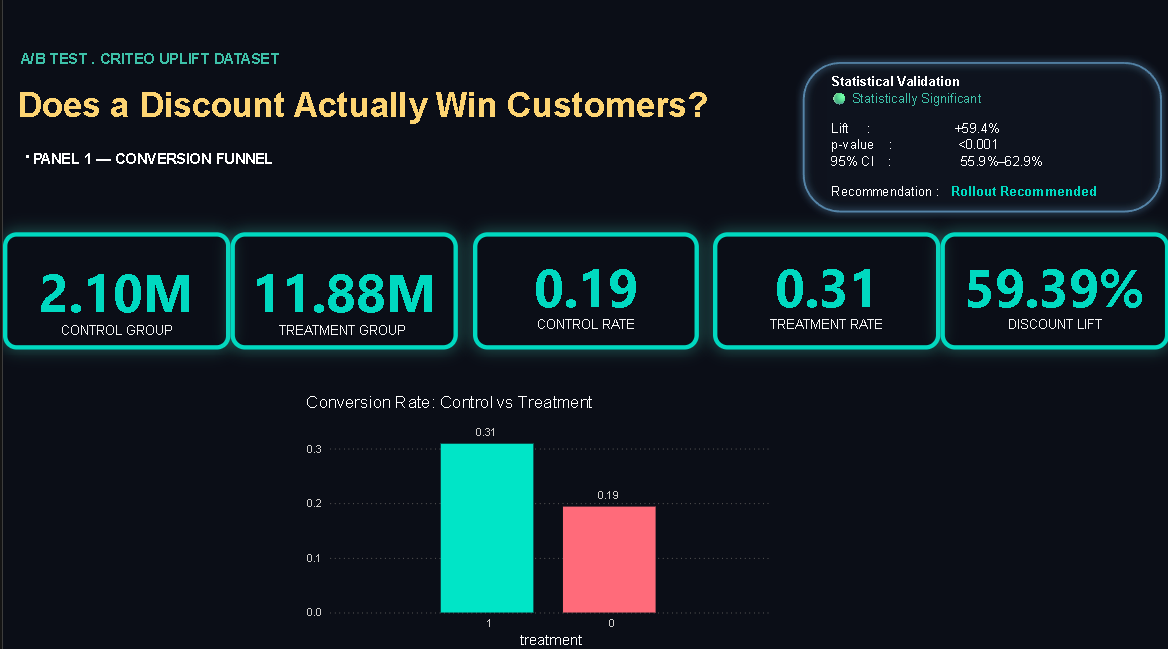

The page's visual inventory and layout, read from the dashboard file:
{"tool":"powerbi","page":{"name":"Page 1","canvas":[1280,720],"ordinal":0},"visuals":[{"type":"card","title":" ","fields":{"Values":["Min(summary_treatment_control.total_users)"]},"box":[0,259.3,249.7,129],"z":0},{"type":"card","title":" ","fields":{"Values":["Min(summary_treatment_control.total_users)"]},"box":[249.7,259.3,249.7,129],"z":1000},{"type":"card","fields":{"Values":["Min(summary_treatment_control.conversion_rate_pct)"]},"box":[516,259.3,248.4,129],"z":2000},{"type":"card","title":"Control Total User ","fields":{"Values":["Min(summary_treatment_control.conversion_rate_pct)"]},"box":[779.4,259.3,249.7,129],"z":3000},{"type":"card","title":"Control Total User ","fields":{"Values":["summary_treatment_control.Lift %"]},"box":[1029.2,259.3,251.1,129],"z":4000},{"type":"clusteredColumnChart","title":"Conversion Rate: Control vs Treatment","fields":{"Category":["summary_treatment_control.treatment"],"Y":["Sum(summary_treatment_control.conversion_rate_pct)"]},"box":[328,435,520.1,285.4],"z":5000},{"type":"textbox","box":[0,91.9,860.4,72.7],"z":6000},{"type":"textbox","box":[9.6,54.9,344.4,37],"z":7000},{"type":"textbox","box":[9.6,164.7,365,38.4],"z":8000},{"type":"shape","box":[870,64.5,410.3,181.1],"z":9000},{"type":"textbox","box":[904.3,64.5,345.8,166],"z":10000}]}

Visuals, with their boxes in screenshot pixels (x1, y1, x2, y2), scaled from the page's 1280x720 canvas onto the 1168x649 screenshot:
" " card: 0, 234, 228, 350
" " card: 228, 234, 456, 350
card - Min(summary_treatment_control.conversion_rate_pct): 471, 234, 698, 350
"Control Total User " card: 711, 234, 939, 350
"Control Total User " card: 939, 234, 1167, 350
"Conversion Rate: Control vs Treatment" clusteredColumnChart: 299, 392, 774, 648
textbox: 0, 83, 785, 148
textbox: 9, 49, 323, 83
textbox: 9, 148, 342, 183
shape: 794, 58, 1167, 221
textbox: 825, 58, 1141, 208
